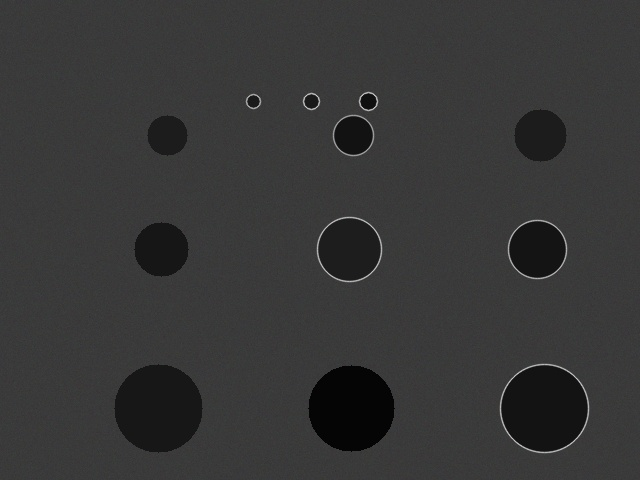hole: (114, 364, 202, 452), (500, 364, 588, 452), (308, 365, 394, 451), (317, 217, 381, 281), (508, 220, 566, 278), (134, 222, 188, 276), (514, 109, 566, 161), (147, 115, 187, 155), (333, 115, 373, 155), (359, 92, 377, 110), (303, 93, 319, 109), (246, 94, 260, 108)
